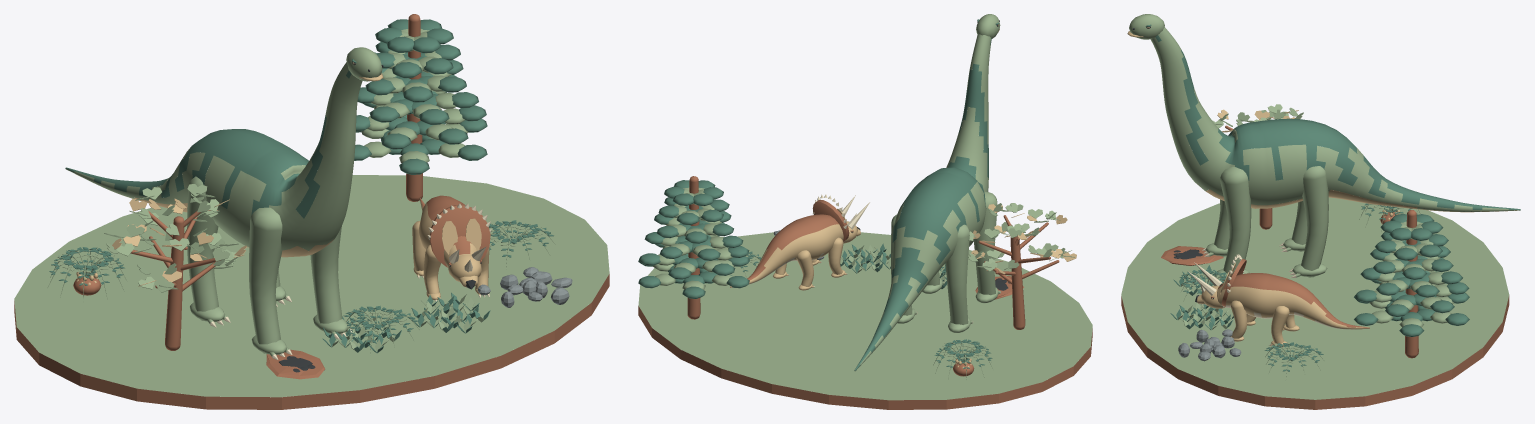
File: primeval-frontier-herbivore-migration-a0d81e6d__1787.glb
The picture shows the model from 3 angles, left to right: view 1: azimuth 30°, elevation 25°; view 2: azimuth 150°, elevation 25°; view 3: azimuth 270°, elevation 25°; orthographic projection. The views are drawn at different scales.
Parts seen in each view (by area): view 1: 000-forest-habitat-base/1, 001-brachiosaurus/0, 003-araucaria-conifer/1, 000-forest-habitat-base/0, 001-brachiosaurus/2, 003-araucaria-conifer/2, 002-triceratops/0, 004-ginkgo-tree/2, 004-ginkgo-tree/0, 002-triceratops/2, 008-basalt-scree/0, 004-ginkgo-tree/1 (+13 smaller); view 2: 000-forest-habitat-base/1, 001-brachiosaurus/0, 001-brachiosaurus/2, 003-araucaria-conifer/1, 000-forest-habitat-base/0, 002-triceratops/0, 003-araucaria-conifer/2, 002-triceratops/2, 004-ginkgo-tree/2, 004-ginkgo-tree/0, 004-ginkgo-tree/1, 010-ground-cover-patch/0 (+4 smaller); view 3: 000-forest-habitat-base/1, 001-brachiosaurus/0, 001-brachiosaurus/2, 003-araucaria-conifer/1, 000-forest-habitat-base/0, 002-triceratops/0, 003-araucaria-conifer/2, 002-triceratops/2, 008-basalt-scree/0, 001-brachiosaurus/1, 002-triceratops/1, 003-araucaria-conifer/0 (+5 smaller).
Boxes of the visible parts, x1,y1,x2,y2 form: 000-forest-habitat-base/1: [14, 175, 609, 397]; 001-brachiosaurus/0: [65, 47, 382, 356]; 003-araucaria-conifer/1: [354, 19, 487, 174]; 000-forest-habitat-base/0: [14, 274, 609, 409]; 001-brachiosaurus/2: [65, 52, 376, 218]; 003-araucaria-conifer/2: [361, 29, 468, 162]; 002-triceratops/0: [412, 198, 489, 299]; 004-ginkgo-tree/2: [104, 184, 238, 292]; 004-ginkgo-tree/0: [130, 210, 220, 350]; 002-triceratops/2: [420, 195, 490, 267]; 008-basalt-scree/0: [477, 267, 572, 307]; 004-ginkgo-tree/1: [112, 198, 246, 286]; 000-forest-habitat-base/1: [638, 232, 1092, 400]; 001-brachiosaurus/0: [855, 14, 1000, 371]; 001-brachiosaurus/2: [854, 19, 998, 370]; 003-araucaria-conifer/1: [638, 180, 749, 298]; 000-forest-habitat-base/0: [638, 306, 1092, 409]; 002-triceratops/0: [730, 208, 860, 290]; 003-araucaria-conifer/2: [653, 187, 734, 289]; 002-triceratops/2: [730, 200, 853, 286]; 004-ginkgo-tree/2: [968, 203, 1074, 271]; 004-ginkgo-tree/0: [978, 215, 1059, 329]; 004-ginkgo-tree/1: [971, 204, 1076, 274]; 010-ground-cover-patch/0: [840, 243, 890, 273]; 000-forest-habitat-base/1: [1121, 197, 1509, 399]; 001-brachiosaurus/0: [1129, 14, 1520, 280]; 001-brachiosaurus/2: [1145, 24, 1520, 210]; 003-araucaria-conifer/1: [1354, 214, 1469, 336]; 000-forest-habitat-base/0: [1121, 295, 1509, 409]; 002-triceratops/0: [1197, 263, 1369, 347]; 003-araucaria-conifer/2: [1369, 221, 1454, 327]; 002-triceratops/2: [1211, 259, 1369, 327]; 008-basalt-scree/0: [1178, 329, 1241, 361]; 001-brachiosaurus/1: [1127, 27, 1516, 212]; 002-triceratops/1: [1187, 254, 1363, 346]; 003-araucaria-conifer/0: [1405, 210, 1418, 358].
Bounding box in the file's own units: 17 × 10.14 × 13.65.
